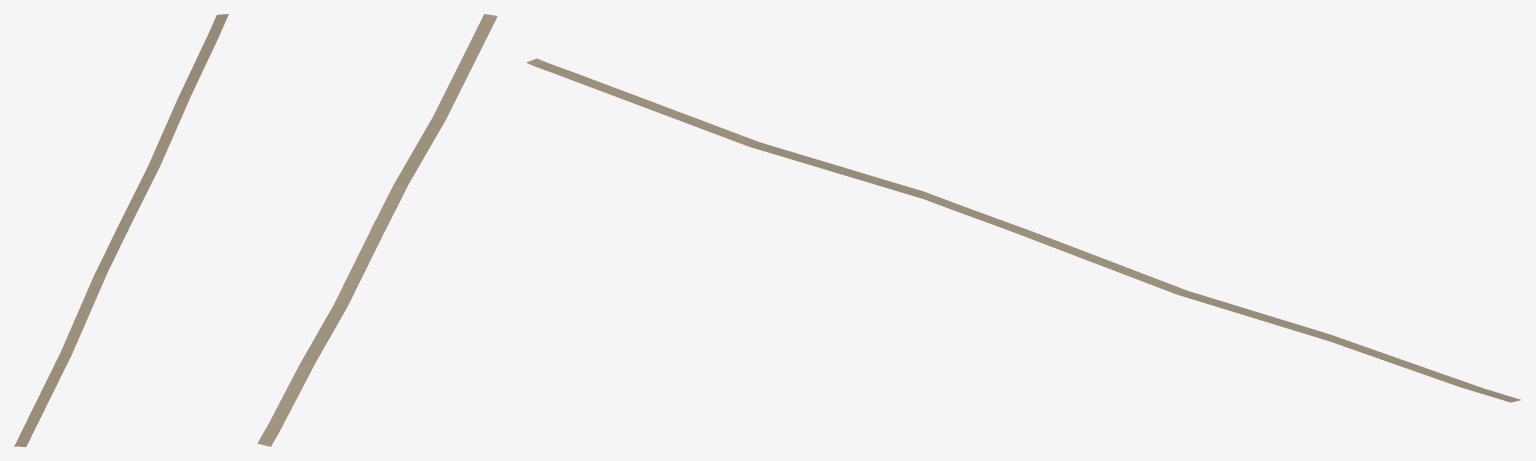
The model's file is farm_-10_-6_track.glb.
3 renders of one model, left to right at view 1: azimuth 30°, elevation 25°; view 2: azimuth 210°, elevation 25°; view 3: azimuth 270°, elevation 25°, orthographic. The views are drawn at different scales.
Visible parts, largest first — view 1: geometry_0; view 2: geometry_0; view 3: geometry_0.
Boxes of the visible parts, box(x1,y1,x2,y2) form: geometry_0: box(14, 14, 228, 446); geometry_0: box(257, 14, 497, 446); geometry_0: box(526, 58, 1520, 402).
Size of the model in its own units: 176 by 7.44 by 196.
